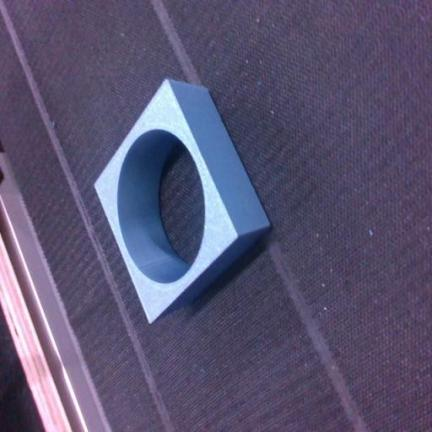square: (94, 79, 269, 322)
